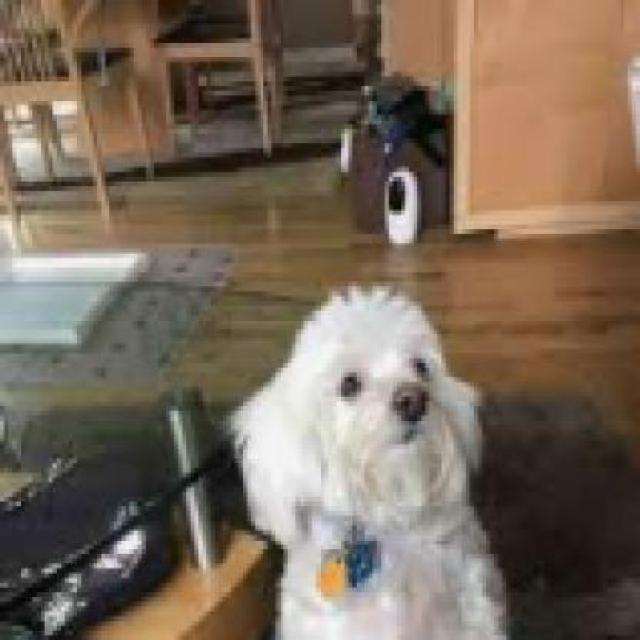Dog: (228, 286, 528, 636)
